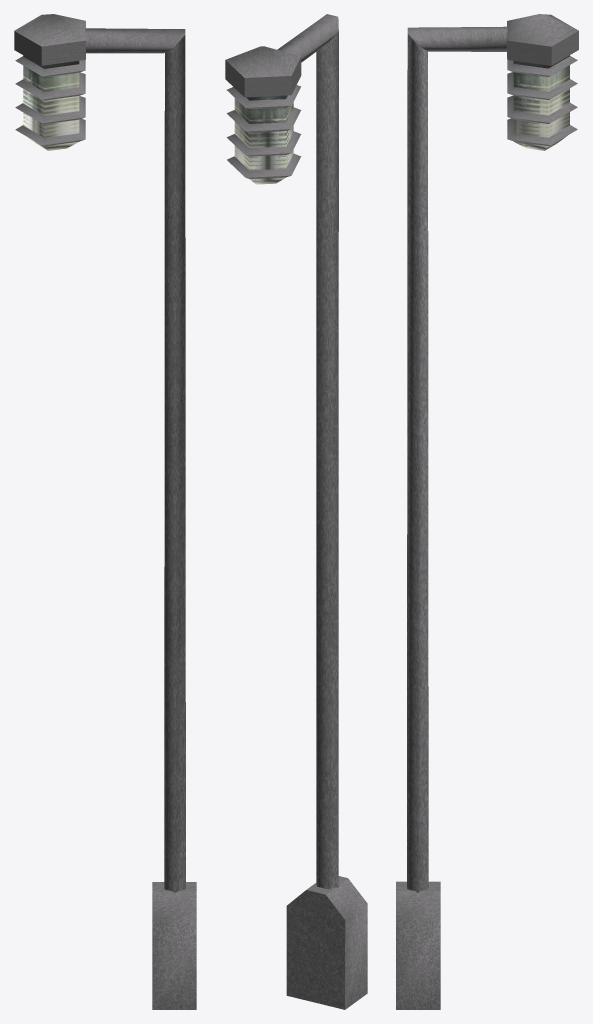
The model's file is OPLIT01.glb.
3 views of the same model, side by side, from view 1: azimuth 90°, elevation 25°; view 2: azimuth 150°, elevation 25°; view 3: azimuth 270°, elevation 25° (orthographic).
Visible parts, largest first — view 1: _OPLIT01; view 2: _OPLIT01; view 3: _OPLIT01.
Part boxes in pixels (x1,y1,x2,y2): _OPLIT01: [14, 14, 196, 1009]; _OPLIT01: [225, 14, 367, 1009]; _OPLIT01: [396, 14, 578, 1009].
Bounding box in the file's own units: 0.2616 × 3.76 × 0.6333.
2 materials, 2 textured.
